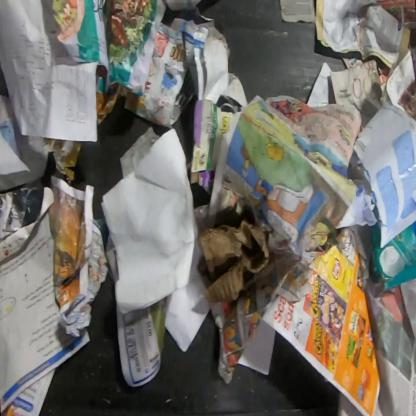cardboard: (198, 216, 271, 306), (367, 220, 415, 294)
